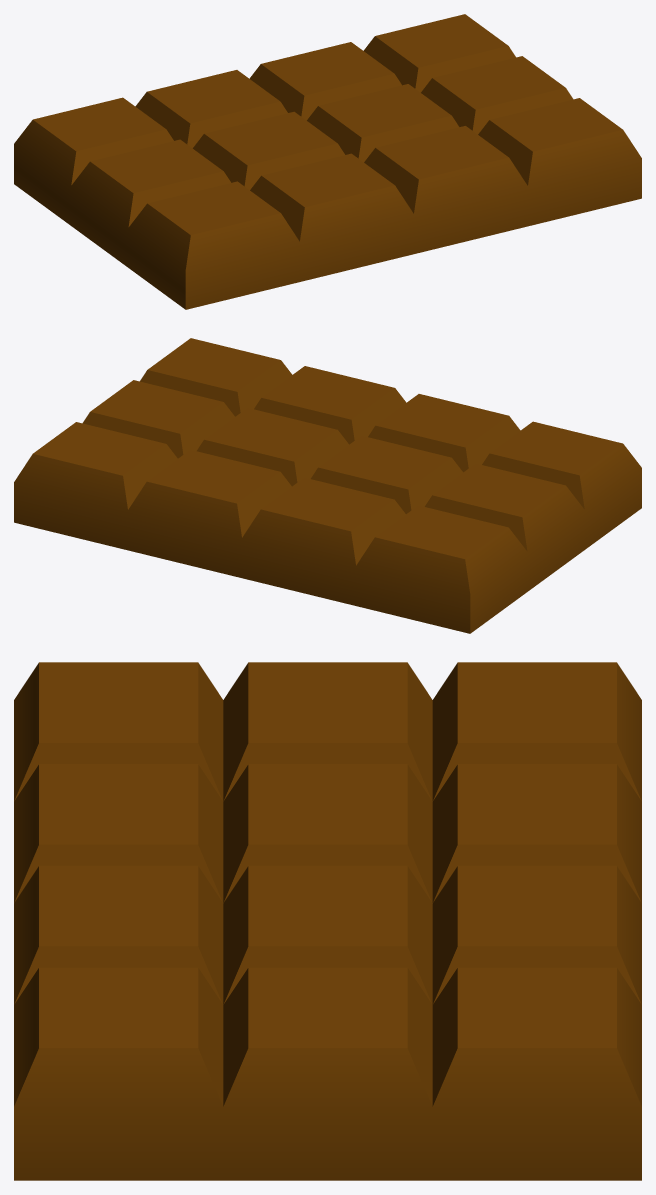
Rendered from chocolate.fbx.
The picture shows the model from 3 angles, top to bottom: view 1: azimuth 30°, elevation 25°; view 2: azimuth 150°, elevation 25°; view 3: azimuth 270°, elevation 25°; orthographic projection. The views are drawn at different scales.
Parts seen in each view (by area): view 1: Cube; view 2: Cube; view 3: Cube.
Part boxes in pixels (box(x1,y1,x2,y2)): Cube: box(14, 14, 641, 309); Cube: box(14, 338, 641, 633); Cube: box(14, 662, 641, 1180).
Bounding box in the file's own units: 65.87 × 9.21 × 42.97.
